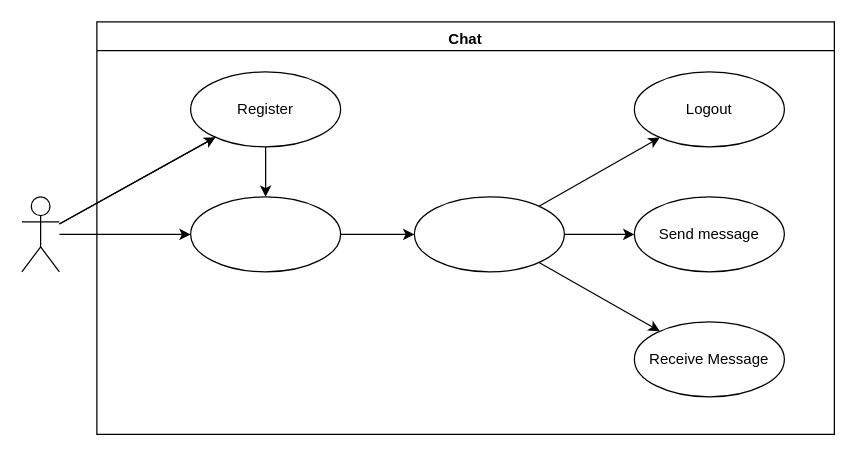
The diagram is 856 pixels wide and 456 high, and some of its shapes have lost their labels. Each missing label, with the centre of its shape:
Login: point 265,234
main screen: point 488,234
User: point 40,234
